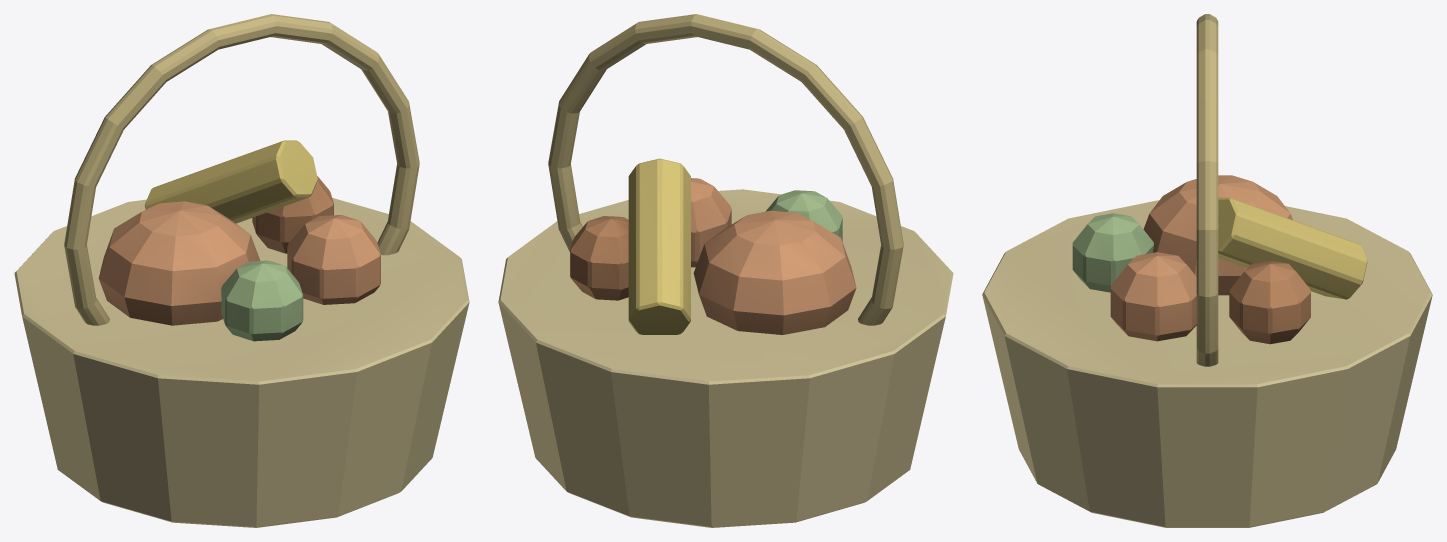
File: harvest_basket.glb
The picture shows the model from 3 angles, left to right: view 1: azimuth 30°, elevation 25°; view 2: azimuth 150°, elevation 25°; view 3: azimuth 270°, elevation 25°; orthographic projection. The views are drawn at different scales.
Bounding box in the file's own units: 0.7003 × 0.7332 × 0.7183.
